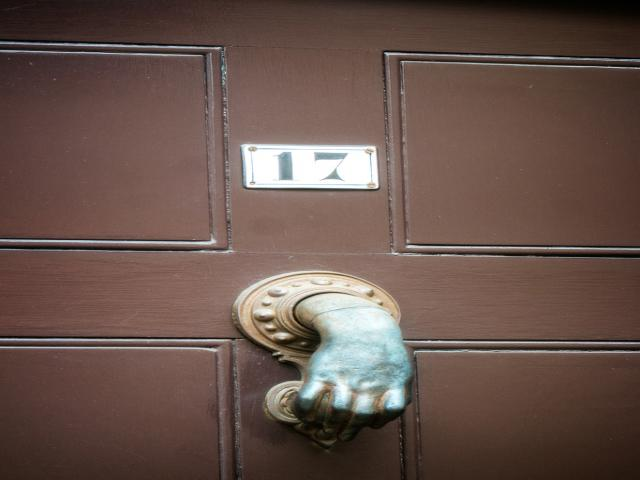Door-handle: (232, 267, 412, 438)
